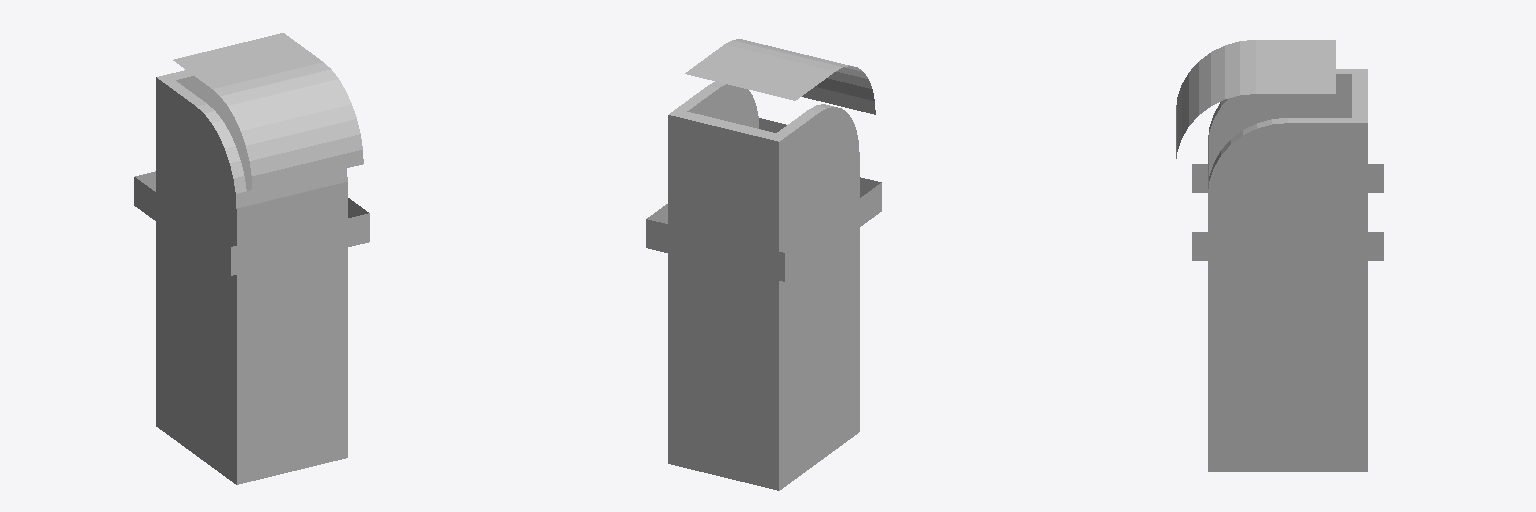
The model's file is Variation01_Trashbin.obj.
3 renders of one model, left to right at view 1: azimuth 30°, elevation 25°; view 2: azimuth 150°, elevation 25°; view 3: azimuth 270°, elevation 25°, orthographic.
Parts seen in each view (by area): view 1: Cube_Cube, Plane.001_Plane.001; view 2: Cube_Cube, Plane.001_Plane.001; view 3: Cube_Cube, Plane.001_Plane.001.
Boxes of the visible parts, x1,y1,x2,y2 form: Cube_Cube: [156, 70, 347, 484]; Plane.001_Plane.001: [134, 33, 369, 275]; Cube_Cube: [668, 81, 859, 490]; Plane.001_Plane.001: [646, 39, 881, 281]; Cube_Cube: [1208, 69, 1367, 471]; Plane.001_Plane.001: [1176, 40, 1383, 260].
Bounding box in the file's own units: 50 × 130 × 65.